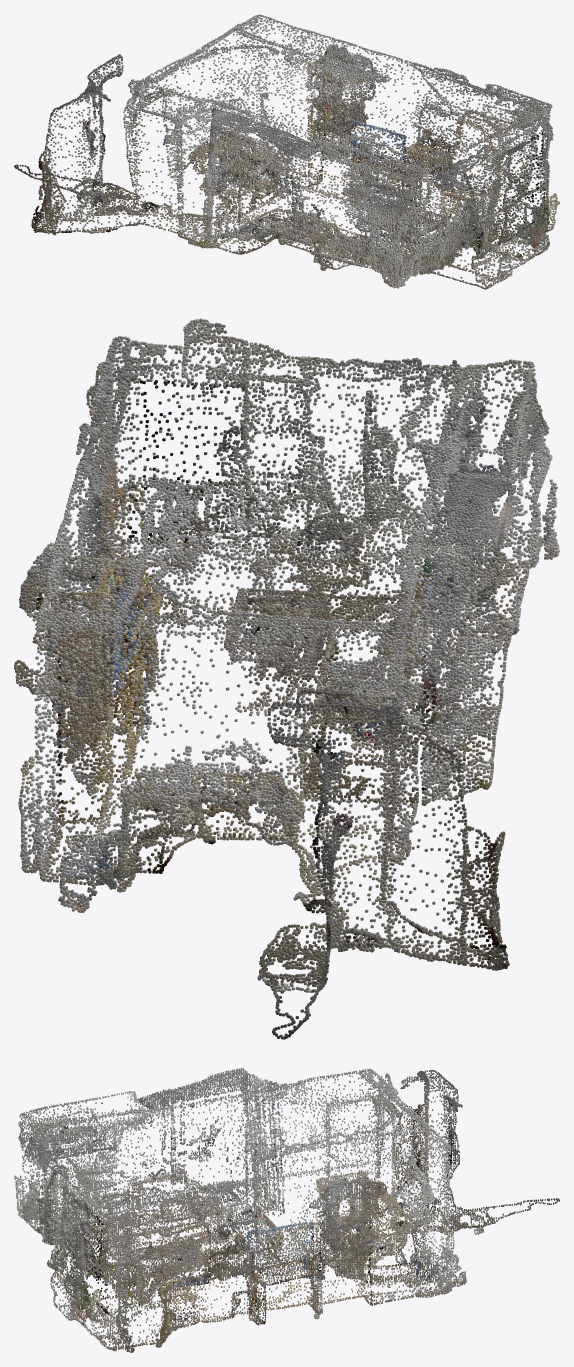
Rendered from scan.glb.
3 views of the same model, one above another, from view 1: azimuth 30°, elevation 25°; view 2: azimuth 150°, elevation 25°; view 3: azimuth 270°, elevation 25° (orthographic). The views are drawn at different scales.
Visible parts, largest first — view 1: scan-voxels; view 2: scan-voxels; view 3: scan-voxels.
Part boxes in pixels (<box>): scan-voxels: <box>14,14,559,289</box>; scan-voxels: <box>14,318,559,1039</box>; scan-voxels: <box>14,1068,559,1352</box>.
Size of the model in its own units: 0.0676 by 0.0292 by 0.0847.
